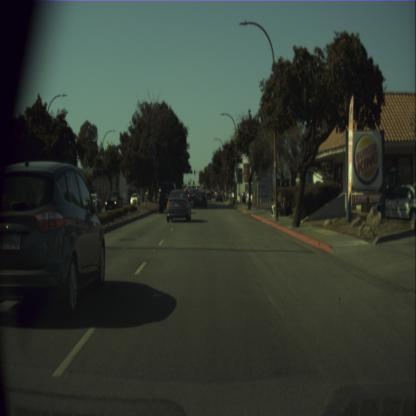Red: (202, 170, 204, 174)
